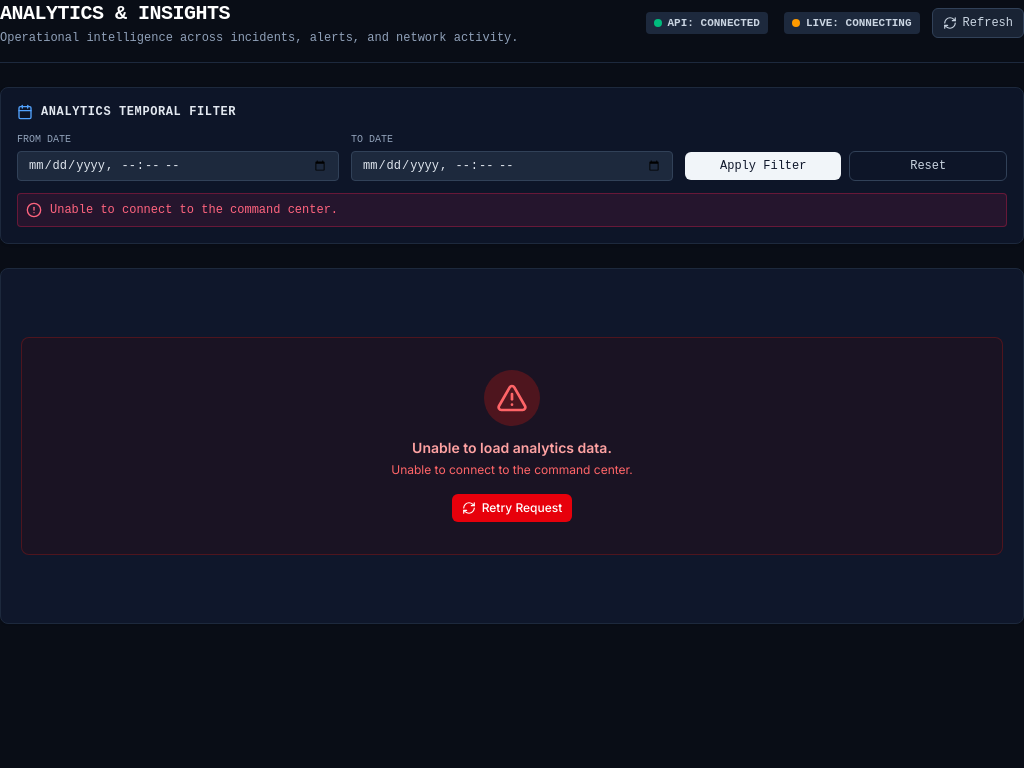
Scenario: Step 26 — Analytics & Insights Dashboard Tests › P: Retry button reloads analytics datasets on failure
Expected: the heading "Unable to load analytics data." is shown, x1=412 y1=438 x2=612 y2=458
What coordinates should you click on to do the following:
click the button "Retry Request"
I would click on:
 (512, 508)
Its box is x1=452 y1=494 x2=572 y2=522.
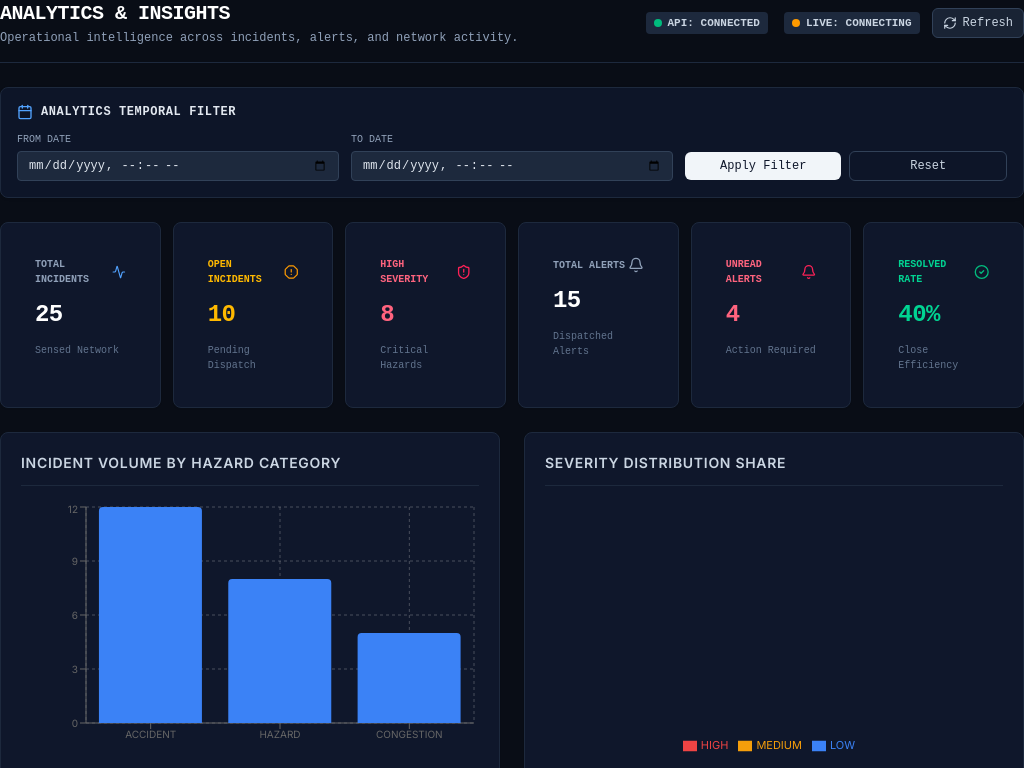
Expected: the heading "Analytics & Insights" is shown, x1=0 y1=2 x2=230 y2=25
Expected: the text "25" is shown, x1=35 y1=301 x2=63 y2=328
